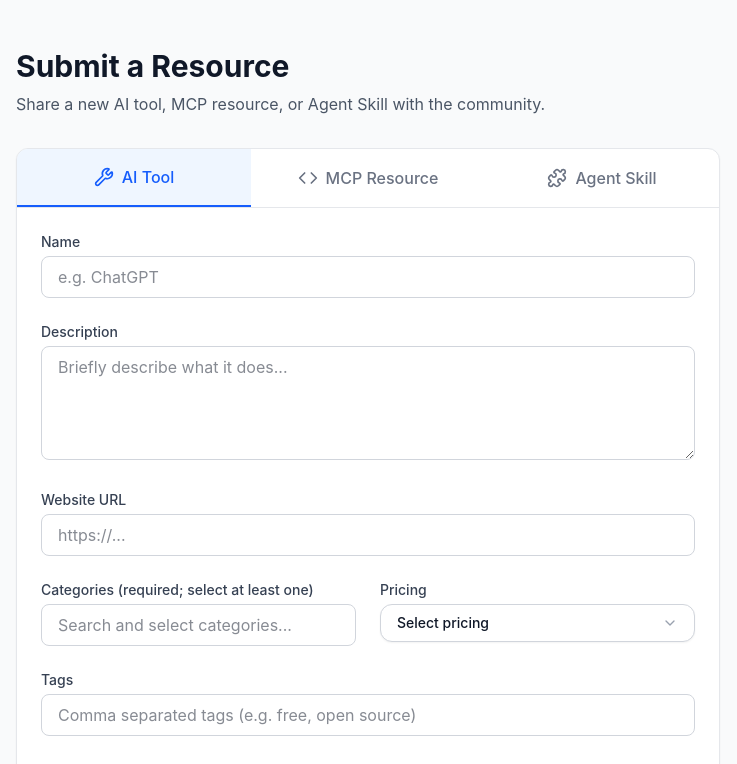
SubmitTool › submits an AI tool and shows the success screen
Type "My Tool" into the field with placeholder "e.g. ChatGPT" at point(368, 277), box [41,256,695,298]
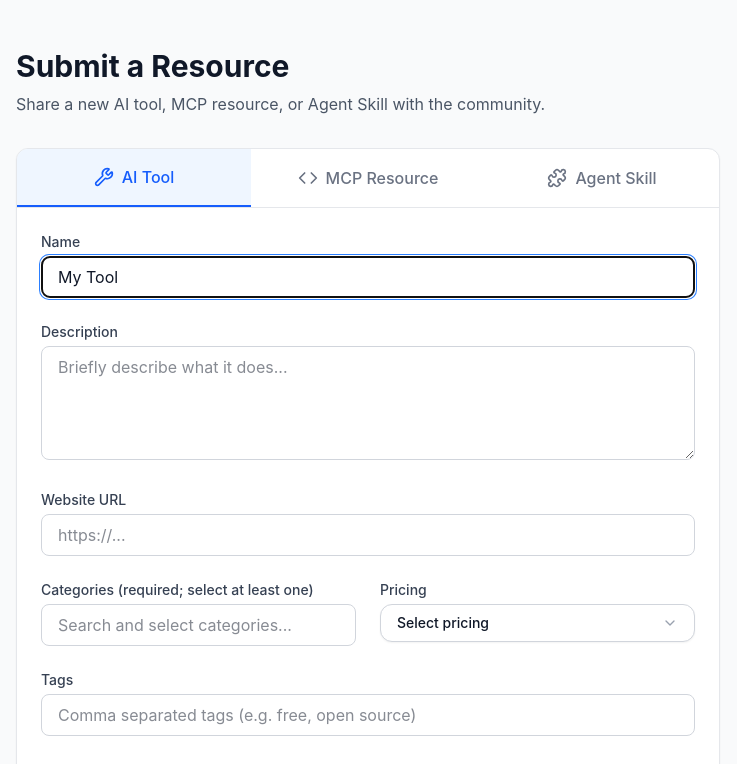
Type "Does things" into the text box with placeholder "Briefly describe what it does..." at point(368, 403), box [41,346,695,460]
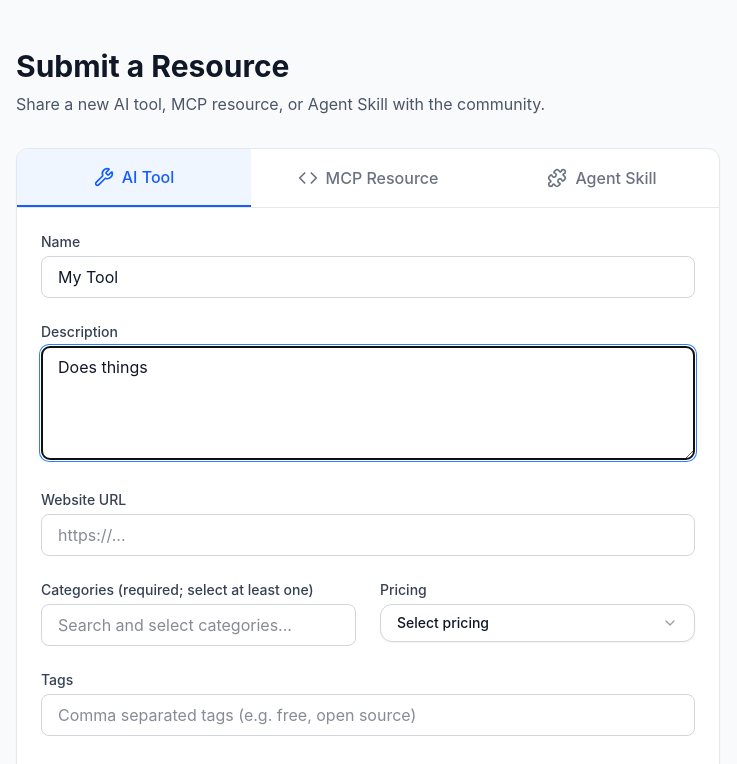
Type "https://example.com" into the field with placeholder "https://..." at point(368, 535), box [41,514,695,556]
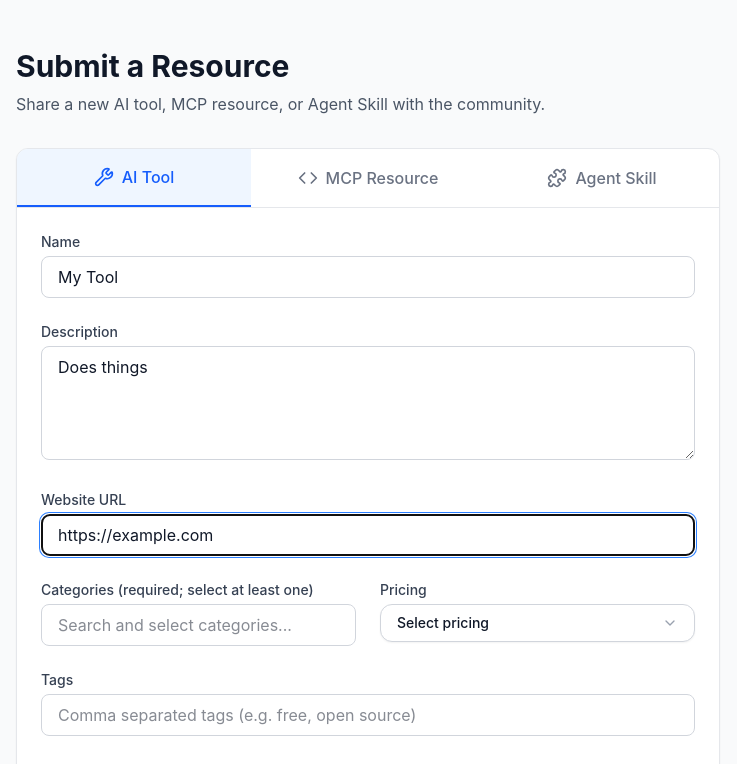
Click the field with placeholder "Search and select categories..." at point(198, 625), box [41,604,356,646]
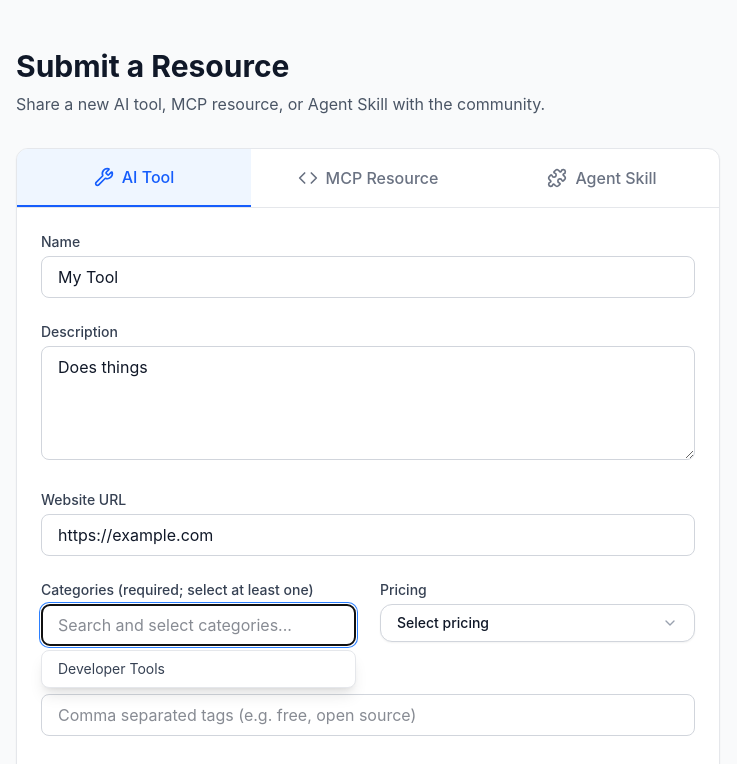
Click the button "Developer Tools" at point(112, 668), box [42,651,355,687]
(page scrolled)
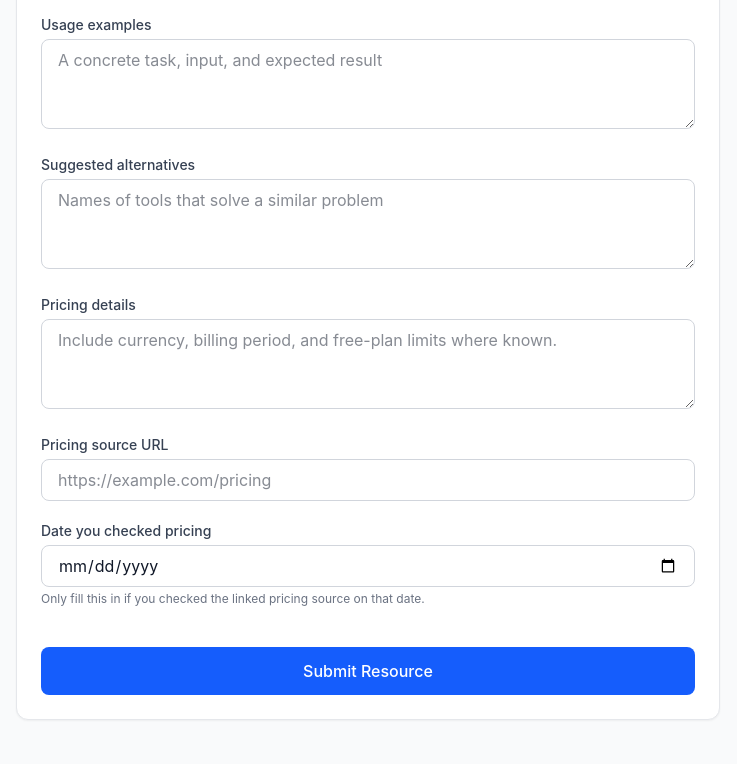
Click the button "Submit Resource" at point(368, 671), box [41,647,695,695]
(page scrolled)
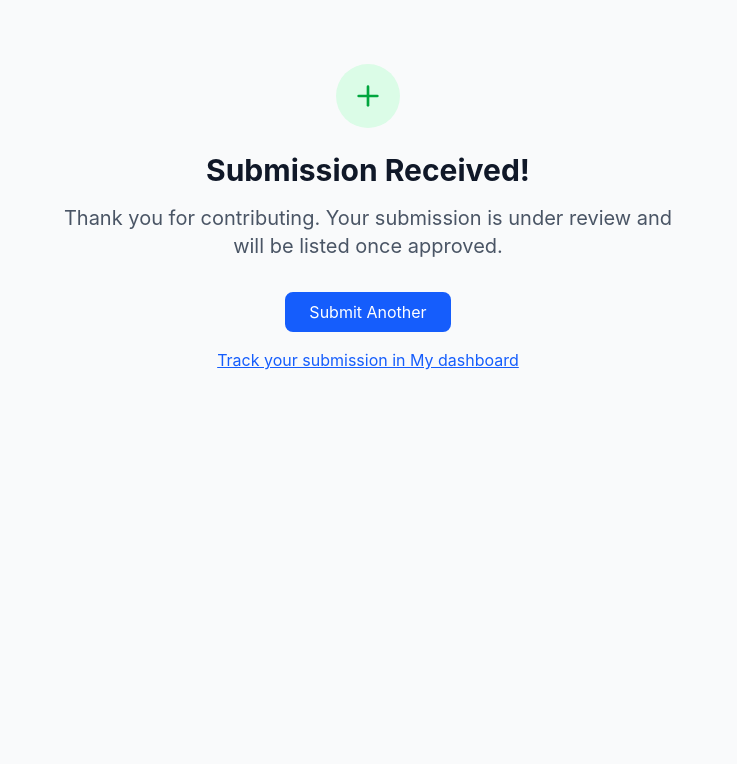
Result: the heading "Submission Received!" is shown at [206,152,530,188]
